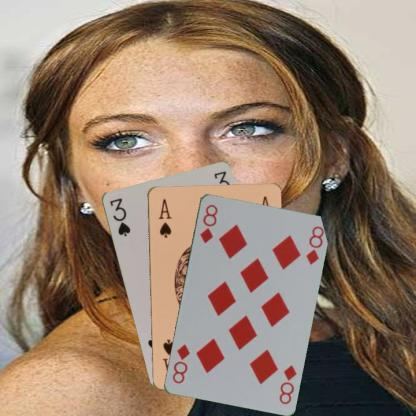3s: (107, 195, 132, 238)
8d: (276, 362, 298, 405), (197, 202, 219, 244)
As: (156, 196, 172, 238)
